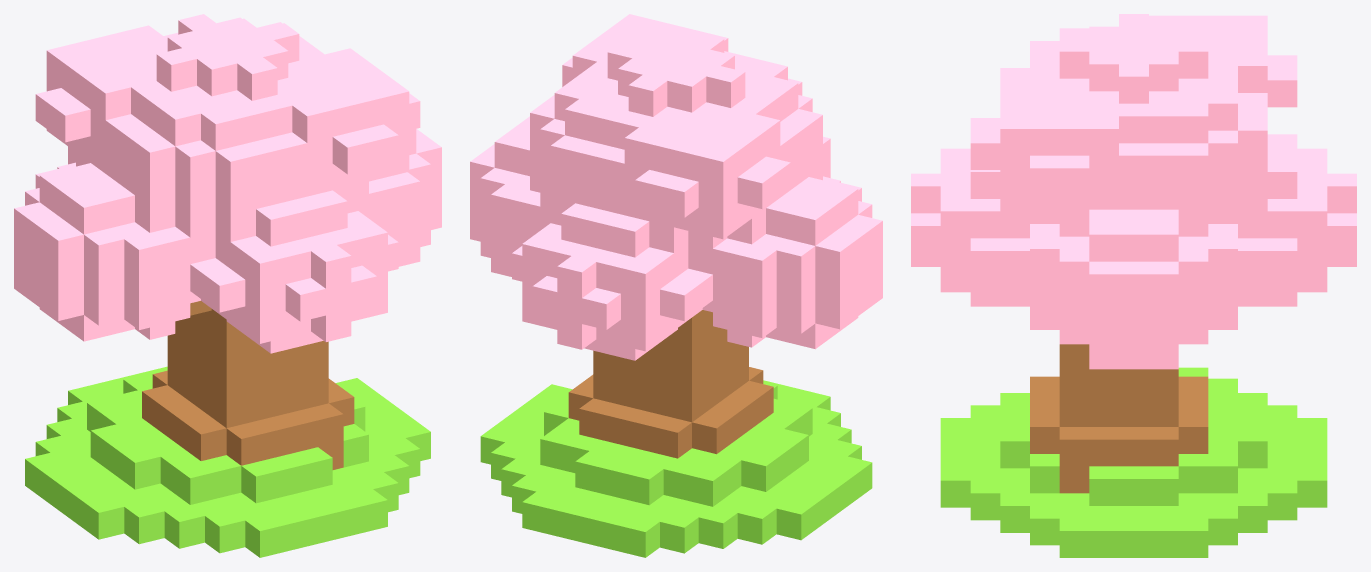
The model's file is voxel-sakura.glb.
3 views of the same model, side by side, from view 1: azimuth 30°, elevation 25°; view 2: azimuth 150°, elevation 25°; view 3: azimuth 270°, elevation 25° (orthographic). The views are drawn at different scales.
Parts seen in each view (by area): view 1: sakura; view 2: sakura; view 3: sakura.
Boxes of the visible parts, x1=… form: sakura: x1=14, y1=14, x2=441, y2=557; sakura: x1=470, y1=14, x2=882, y2=557; sakura: x1=911, y1=14, x2=1356, y2=557.
Bounding box in the file's own units: 2.25 × 2.4 × 2.25.
